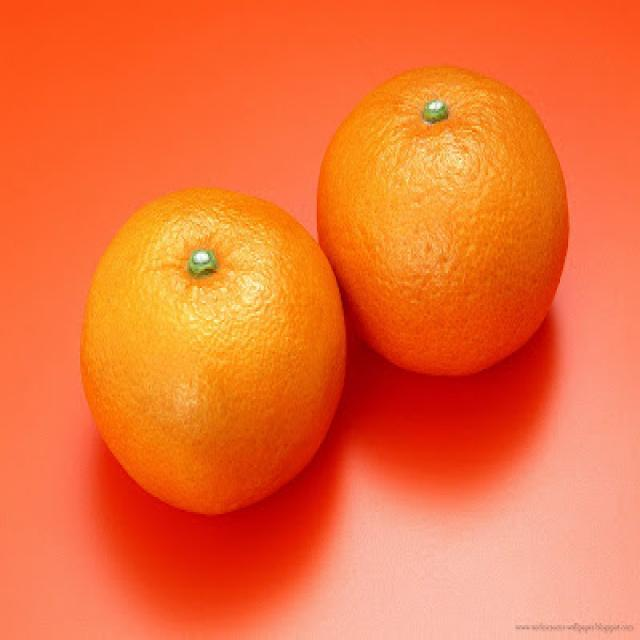Orange: (77, 185, 350, 518), (317, 68, 568, 366)
